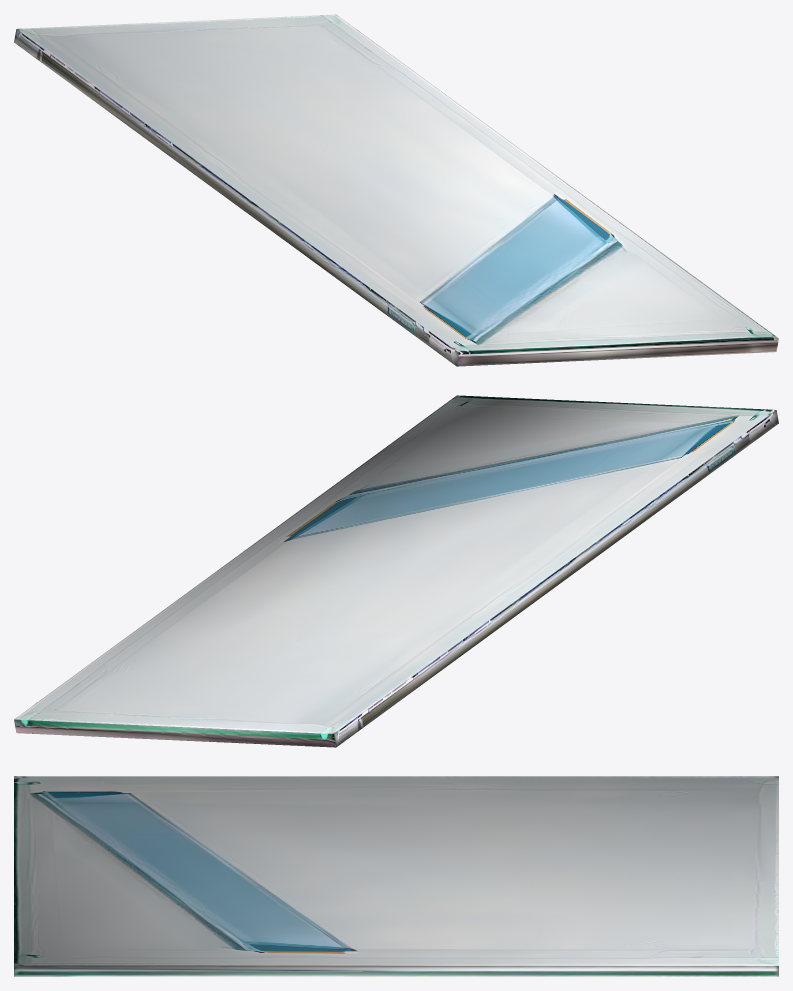
File: oven door.glb
The picture shows the model from 3 angles, top to bottom: view 1: azimuth 30°, elevation 25°; view 2: azimuth 150°, elevation 25°; view 3: azimuth 270°, elevation 25°; orthographic projection. The views are drawn at different scales.
Size of the model in its own units: 7.74 by 1.76 by 18.43.
1 material, 1 textured.
